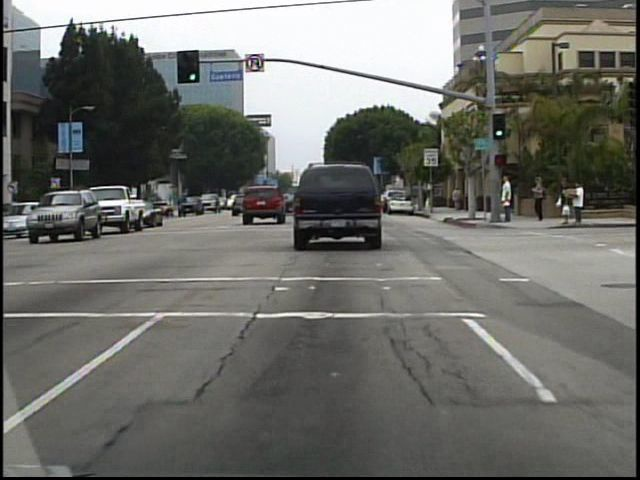person: (496, 172, 515, 227), (530, 176, 547, 224), (449, 184, 464, 215), (419, 184, 431, 212)
